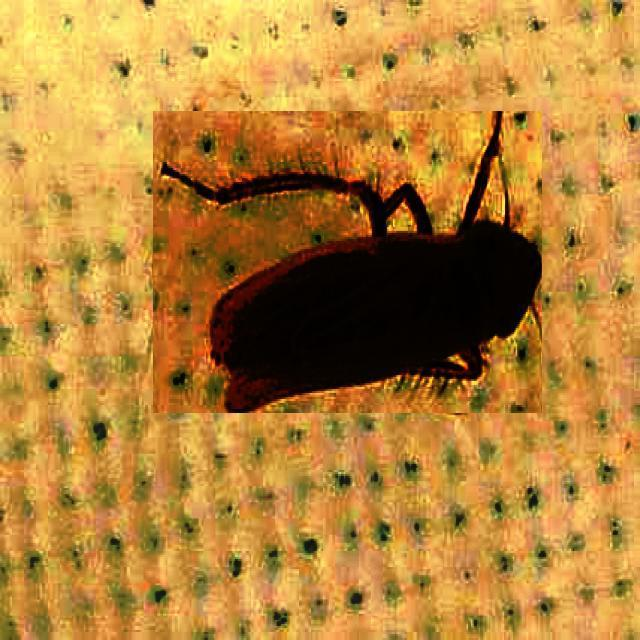green-leafhopper: (153, 111, 542, 413)
